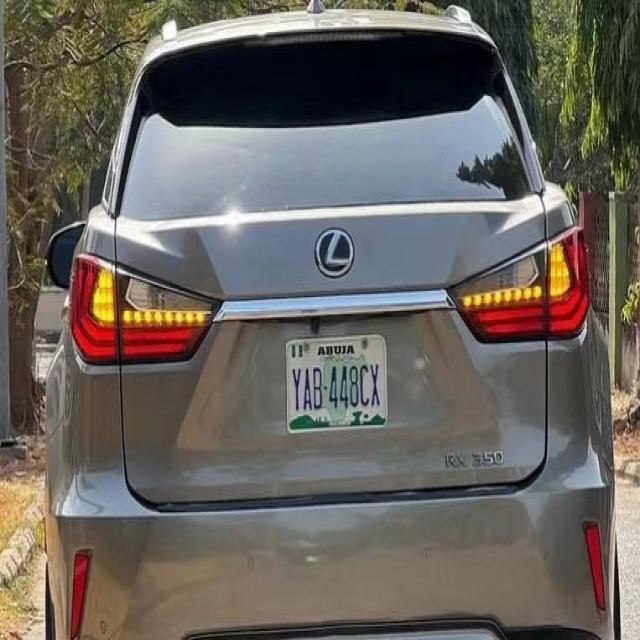Nigerian License Plate - vdataset benjamin-daria: (286, 335, 388, 433)
